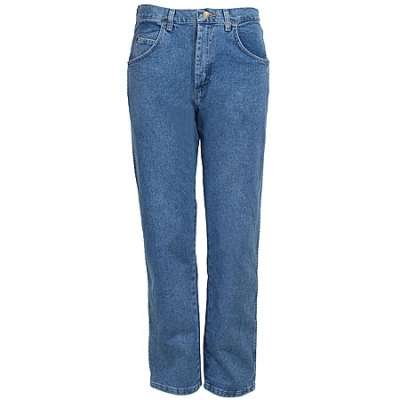jeans: (117, 5, 294, 389)
